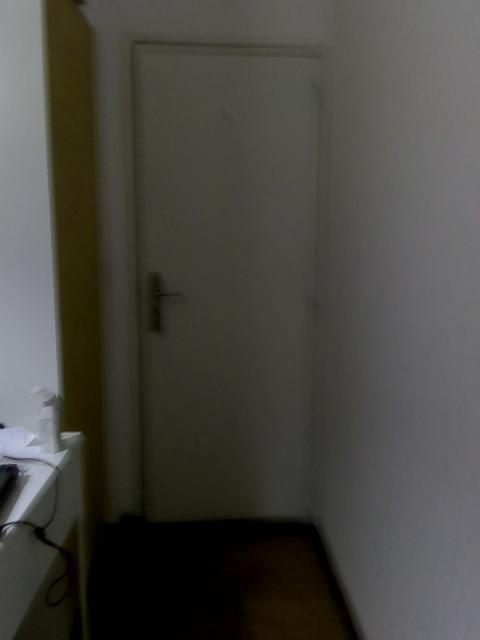closed_door: (119, 31, 332, 533)
